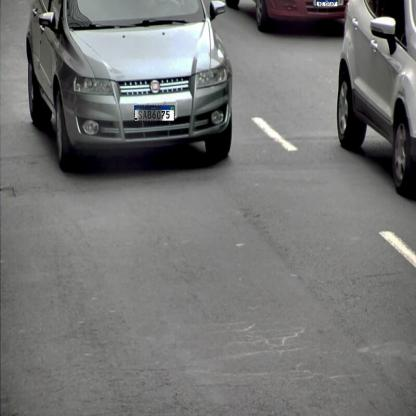PlacaM: (134, 106, 175, 121), (316, 0, 338, 7)
